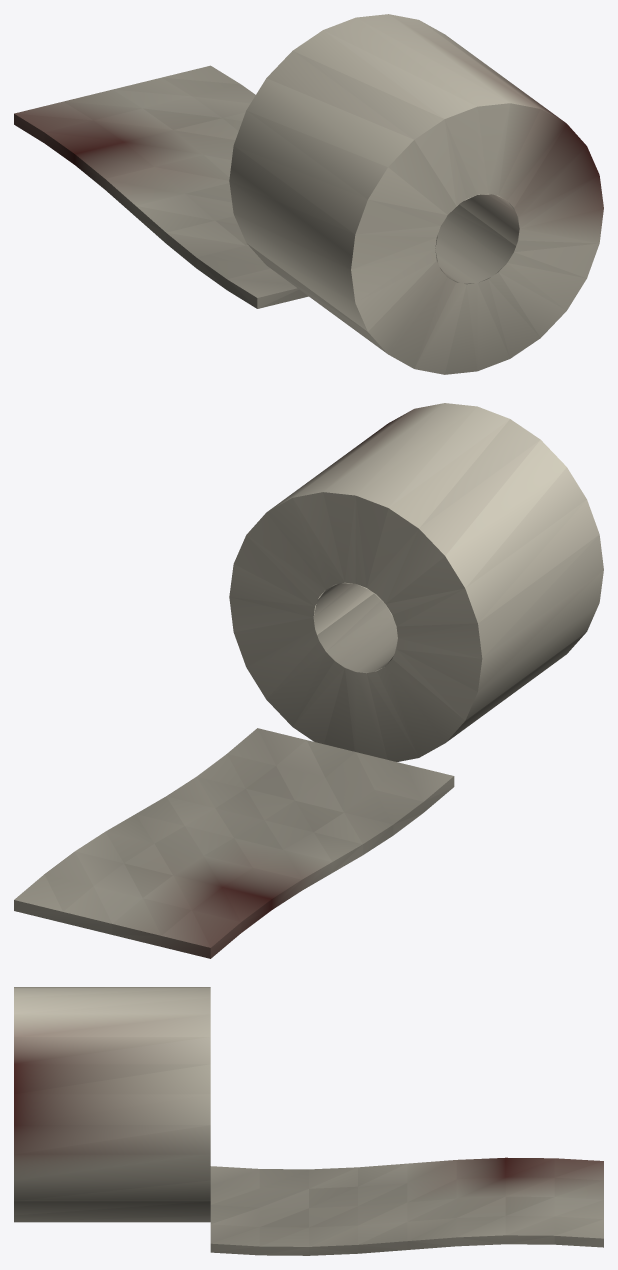
Rendered from Bandage.glb.
3 renders of one model, top to bottom at view 1: azimuth 30°, elevation 25°; view 2: azimuth 150°, elevation 25°; view 3: azimuth 270°, elevation 25°, orthographic. The views are drawn at different scales.
Parts seen in each view (by area): view 1: Bandage_cloth_white; view 2: Bandage_cloth_white; view 3: Bandage_cloth_white.
Part boxes in pixels (x1=…): Bandage_cloth_white: x1=14, y1=14, x2=603, y2=374; Bandage_cloth_white: x1=14, y1=403, x2=603, y2=958; Bandage_cloth_white: x1=14, y1=987, x2=603, y2=1255.
Size of the model in its own units: 0.36 by 0.3693 by 0.9.
